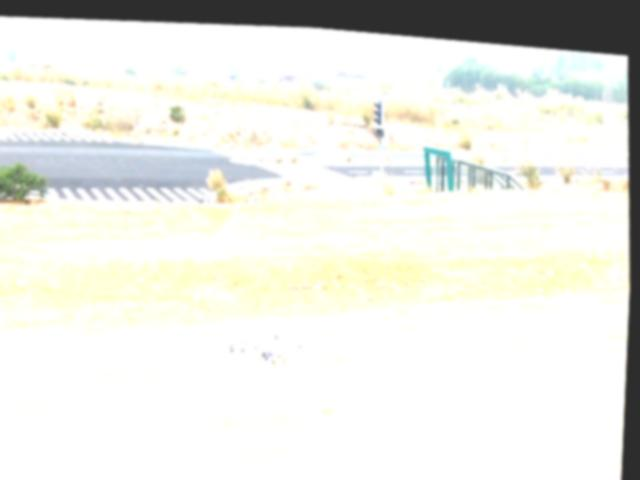plane: (230, 322, 315, 369)
